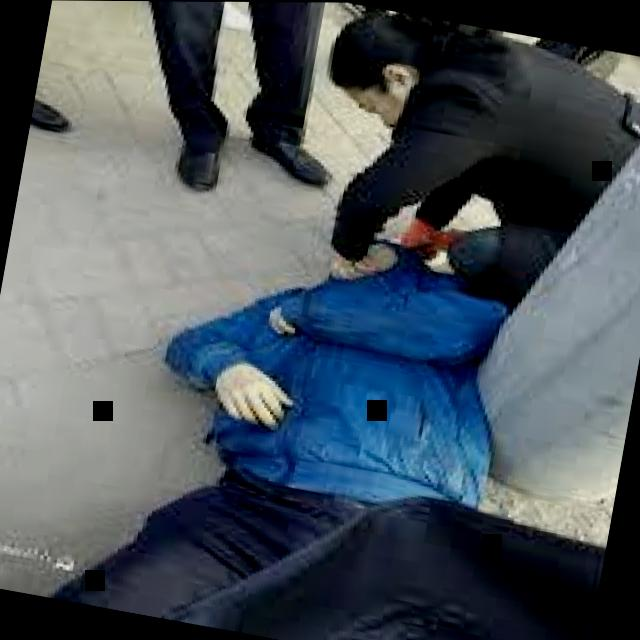Fall-Detected: (0, 140, 624, 640)
